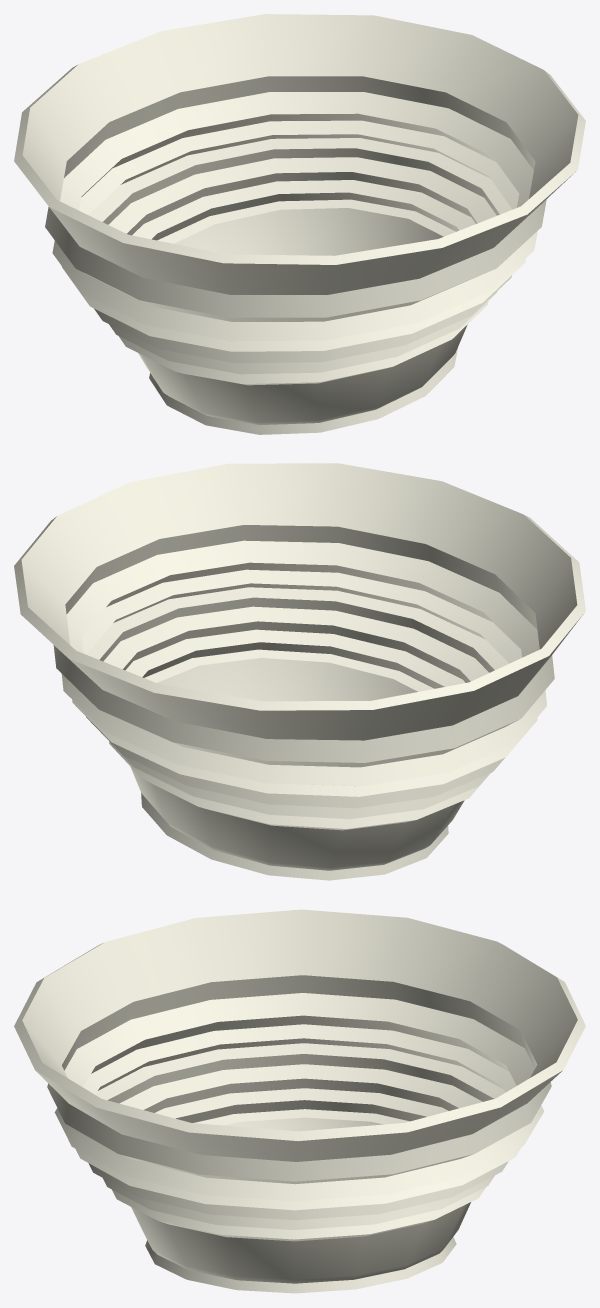
File: VasoPlastico_06.fbx
3 renders of one model, top to bottom at view 1: azimuth 30°, elevation 25°; view 2: azimuth 150°, elevation 25°; view 3: azimuth 270°, elevation 25°, orthographic.
Parts seen in each view (by area): view 1: VasoPlastico_06; view 2: VasoPlastico_06; view 3: VasoPlastico_06.
Part boxes in pixels (bbox=[...]): VasoPlastico_06: bbox=[14, 14, 585, 434]; VasoPlastico_06: bbox=[14, 463, 585, 880]; VasoPlastico_06: bbox=[14, 909, 585, 1293].
Bounding box in the file's own units: 29.22 × 14.01 × 29.23.
